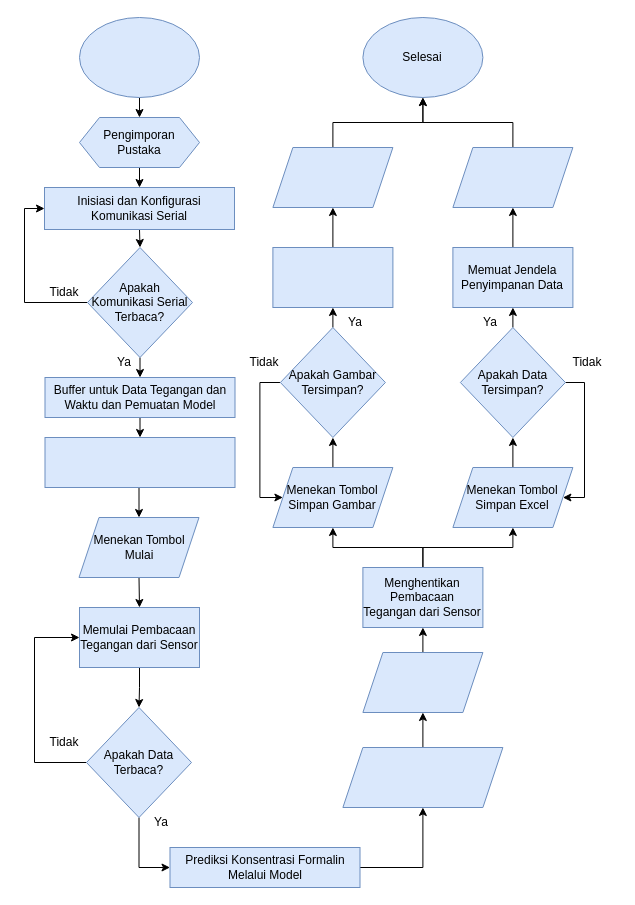
The diagram is 635 pixels wide and 905 high, and some of its shapes have lost their labels. The centre of each missing label's shape, as x and y in pixels:
Data Tersimpan dalam Format .xlsx: point (512, 177)
Gambar Tersimpan dalam Format .png: point (332, 177)
Memuat GUI dengan Tombol Interaktif Mulai, Berhenti, Simpan Gambar dan Excel: point (139, 462)
Memuat Jendela Penyimpanan Gambar: point (332, 277)
Menekan Tombol Berhenti: point (422, 682)
Mulai: point (139, 57)
Tegangan dan Prediksi Ditulis Serta Plotting Realtime: point (422, 777)
